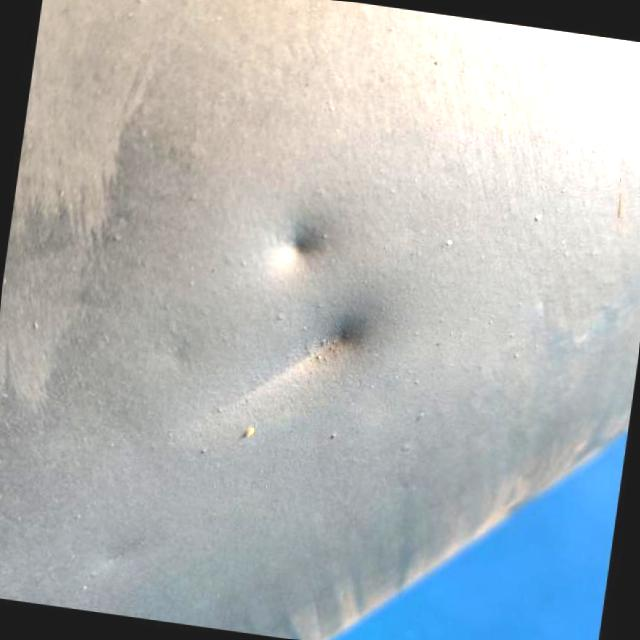dent: (236, 283, 380, 419), (273, 210, 336, 285)
